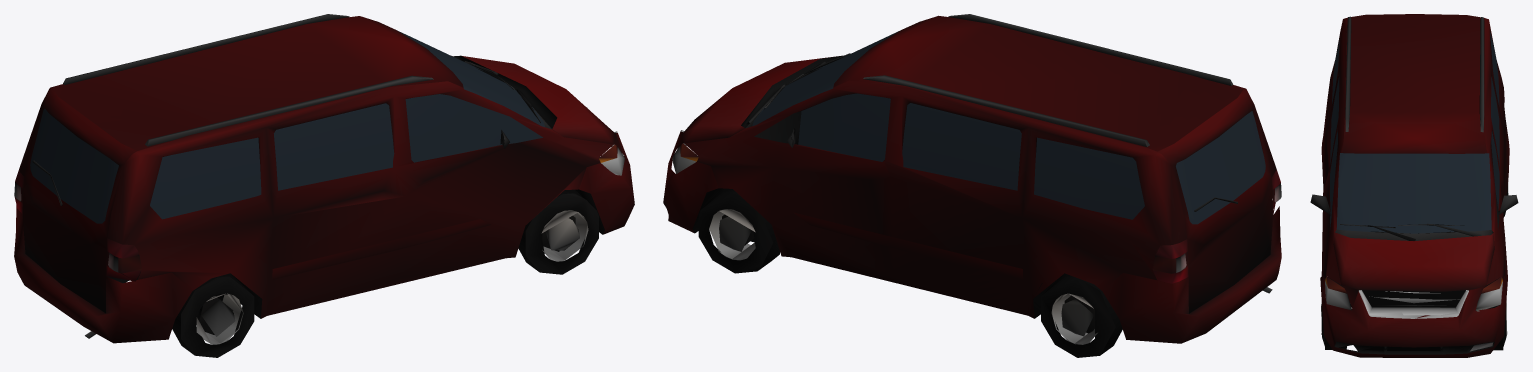
The model's file is minivan.glb.
3 views of the same model, side by side, from view 1: azimuth 30°, elevation 25°; view 2: azimuth 150°, elevation 25°; view 3: azimuth 270°, elevation 25° (orthographic). The views are drawn at different scales.
Parts seen in each view (by area): view 1: minivan; view 2: minivan; view 3: minivan.
Part boxes in pixels (left/top/right/bottom): minivan: left=14, top=14, right=634, bottom=357; minivan: left=663, top=14, right=1281, bottom=357; minivan: left=1310, top=14, right=1518, bottom=357.
Size of the model in its own units: 4.58 by 1.74 by 1.86.
